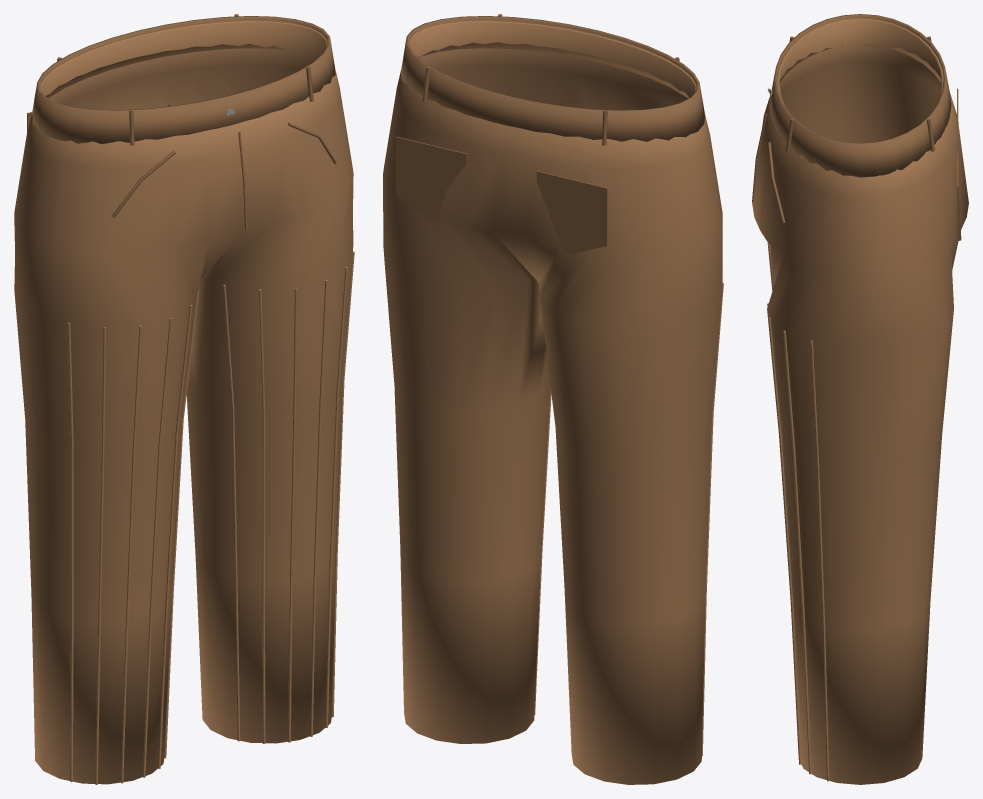
Rendered from pants_corduroy.glb.
3 views of the same model, side by side, from view 1: azimuth 30°, elevation 25°; view 2: azimuth 150°, elevation 25°; view 3: azimuth 270°, elevation 25° (orthographic). The views are drawn at different scales.
Parts seen in each view (by area): view 1: Corduroy_Pants_Connected_Hips_And_Legs, Corduroy_Pants_Waistband, Corduroy_Vertical_Rib.003, Corduroy_Vertical_Rib.008, Corduroy_Vertical_Rib.010, Corduroy_Vertical_Rib.001, Corduroy_Vertical_Rib.007, Corduroy_Vertical_Rib.004, Corduroy_Vertical_Rib, Corduroy_Vertical_Rib.002, Corduroy_Vertical_Rib.006, Corduroy_Vertical_Rib.009 (+2 smaller); view 2: Corduroy_Pants_Connected_Hips_And_Legs, Corduroy_Pants_Waistband, Corduroy_Pants_Back_Pocket, Corduroy_Pants_Back_Pocket.001, Corduroy_Vertical_Rib; view 3: Corduroy_Pants_Connected_Hips_And_Legs, Corduroy_Pants_Waistband, Corduroy_Vertical_Rib.010, Corduroy_Vertical_Rib.011, Corduroy_Vertical_Rib.009.
Part boxes in pixels (x1=…): Corduroy_Pants_Connected_Hips_And_Legs: x1=14, y1=20, x2=353, y2=784; Corduroy_Pants_Waistband: x1=32, y1=16, x2=335, y2=144; Corduroy_Vertical_Rib.003: x1=142, y1=317, x2=172, y2=777; Corduroy_Vertical_Rib.008: x1=288, y1=287, x2=297, y2=742; Corduroy_Vertical_Rib.010: x1=325, y1=267, x2=347, y2=727; Corduroy_Vertical_Rib.001: x1=95, y1=327, x2=105, y2=784; Corduroy_Vertical_Rib.007: x1=258, y1=289, x2=265, y2=743; Corduroy_Vertical_Rib.004: x1=158, y1=305, x2=192, y2=768; Corduroy_Vertical_Rib: x1=67, y1=322, x2=73, y2=782; Corduroy_Vertical_Rib.002: x1=121, y1=325, x2=141, y2=783; Corduroy_Vertical_Rib.006: x1=223, y1=284, x2=240, y2=741; Corduroy_Vertical_Rib.009: x1=310, y1=279, x2=327, y2=736; Corduroy_Pants_Connected_Hips_And_Legs: x1=383, y1=20, x2=722, y2=784; Corduroy_Pants_Waistband: x1=401, y1=16, x2=704, y2=141; Corduroy_Pants_Back_Pocket: x1=536, y1=171, x2=607, y2=254; Corduroy_Pants_Back_Pocket.001: x1=396, y1=136, x2=466, y2=220; Corduroy_Vertical_Rib: x1=702, y1=283, x2=723, y2=755; Corduroy_Pants_Connected_Hips_And_Legs: x1=752, y1=18, x2=968, y2=784; Corduroy_Pants_Waistband: x1=769, y1=14, x2=951, y2=177; Corduroy_Vertical_Rib.010: x1=783, y1=330, x2=811, y2=774; Corduroy_Vertical_Rib.011: x1=810, y1=340, x2=829, y2=781; Corduroy_Vertical_Rib.009: x1=768, y1=317, x2=801, y2=764.
Size of the model in its own units: 0.4781 by 0.9615 by 0.2948.
